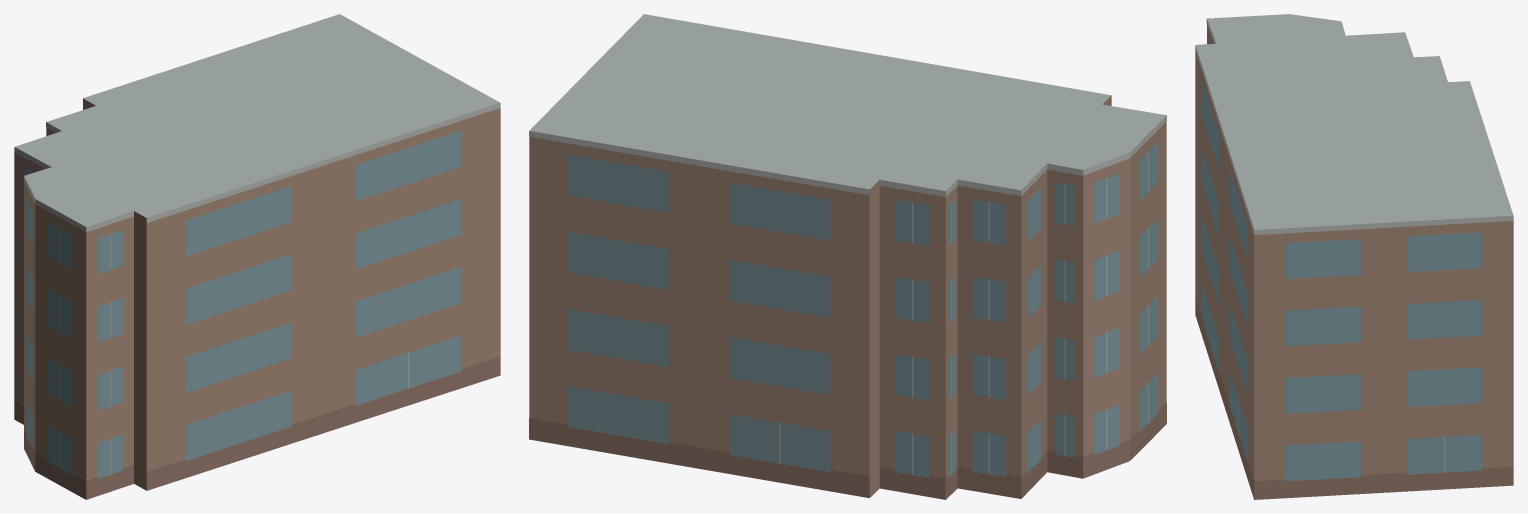
File: survey-upis-32611989.glb
3 renders of one model, left to right at view 1: azimuth 30°, elevation 25°; view 2: azimuth 150°, elevation 25°; view 3: azimuth 270°, elevation 25°, orthographic. The views are drawn at different scales.
Parts seen in each view (by area): view 1: survey-upis-32611989.tmp; view 2: survey-upis-32611989.tmp; view 3: survey-upis-32611989.tmp.
Part boxes in pixels (bbox=[...]): survey-upis-32611989.tmp: bbox=[14, 14, 500, 499]; survey-upis-32611989.tmp: bbox=[529, 14, 1166, 499]; survey-upis-32611989.tmp: bbox=[1195, 14, 1513, 499].
Size of the model in its own units: 21.98 by 12.8 by 13.69.
